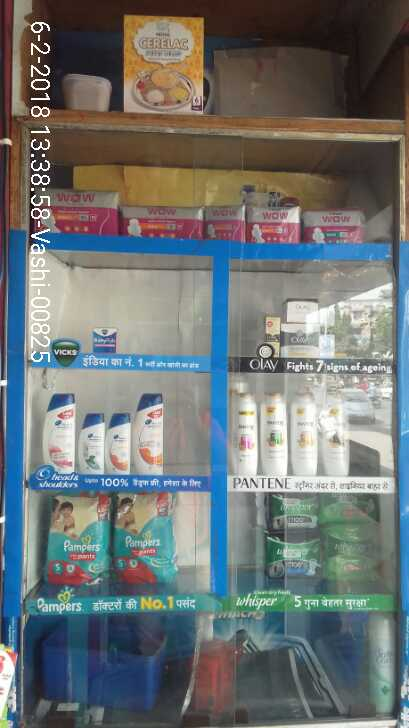beauty: (131, 392, 164, 474), (41, 393, 76, 470), (288, 393, 319, 476), (259, 391, 288, 476), (231, 392, 258, 475), (78, 412, 106, 472), (104, 414, 131, 473)
pharmacy: (109, 490, 180, 582), (43, 492, 109, 583), (262, 531, 324, 577), (265, 492, 322, 530), (321, 493, 381, 527), (324, 527, 383, 557)
